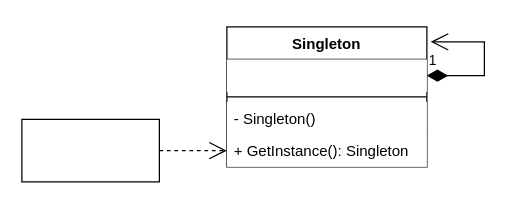
Some shapes in this 528 by 205 pixel diagram are drawn without their labels. Here are the shapes that lost their labels. From the top down, the centre of each, then its label:
the point at 326,75: - _singleton: Singleton
the point at 90,150: Program
